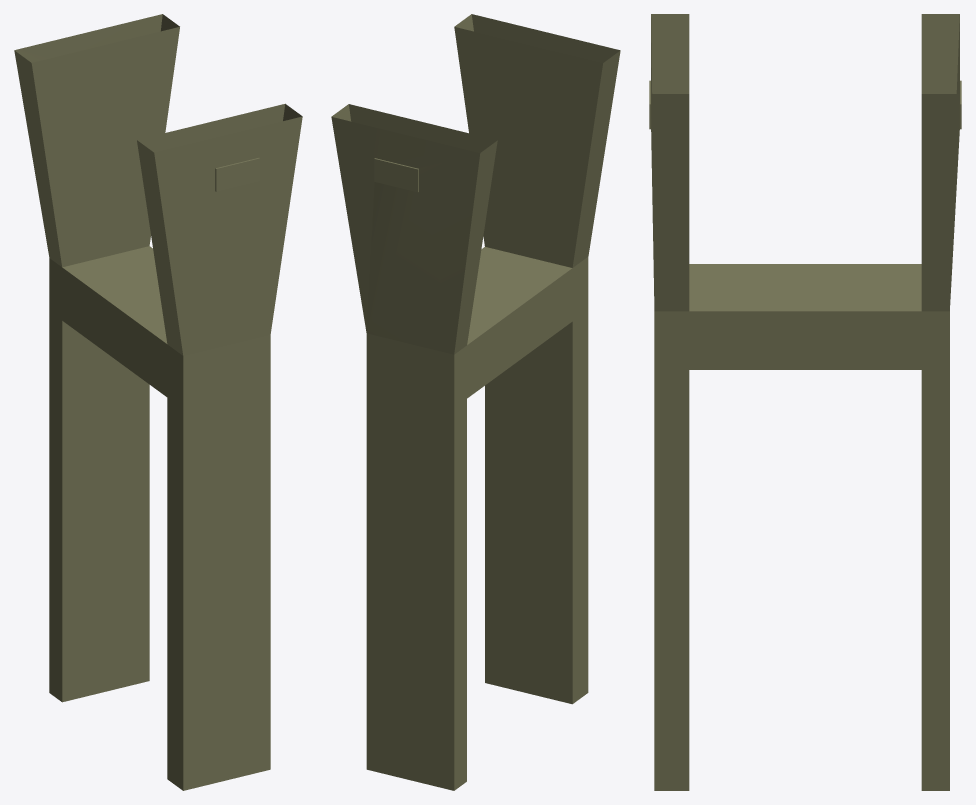
Rendered from rock_bridge01pilars02.fbx.
The picture shows the model from 3 angles, left to right: view 1: azimuth 30°, elevation 25°; view 2: azimuth 150°, elevation 25°; view 3: azimuth 270°, elevation 25°; orthographic projection. The views are drawn at different scales.
Visible parts, largest first — view 1: rock_bridge01pilars02; view 2: rock_bridge01pilars02; view 3: rock_bridge01pilars02.
Boxes of the visible parts, x1,y1,x2,y2 form: rock_bridge01pilars02: [14, 14, 302, 790]; rock_bridge01pilars02: [331, 14, 620, 790]; rock_bridge01pilars02: [649, 14, 961, 790].
Bounding box in the file's own units: 1.58 × 6.56 × 2.61.
